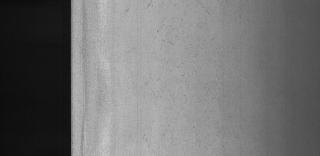silk spot: (137, 11, 217, 139)
